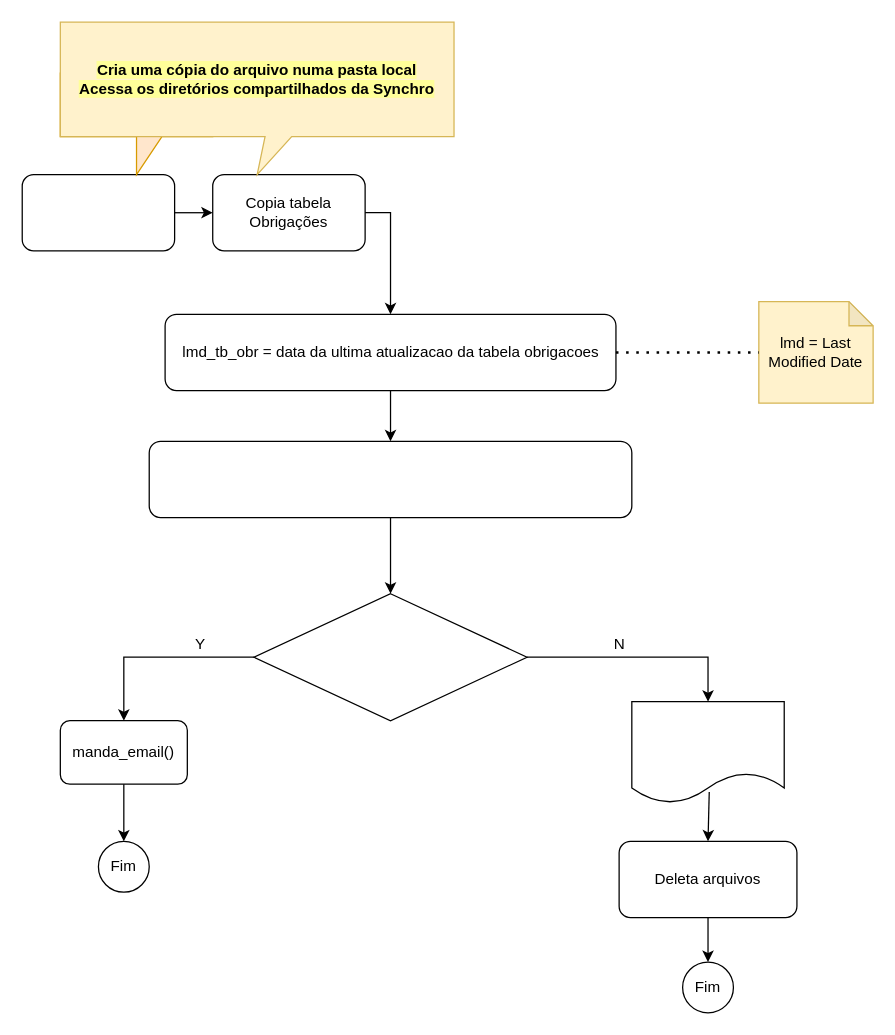
Image size: 895x1035. Some labels were removed from this diagram. Each missing label, with the centre of its shape:
"Não é necessário verificar": pixel 707 751
Copia tabela de preço: pixel 98 212
lmd_tb_obr > lmd_tb_preco: pixel 390 656
lmd_tb_preco = data da ultima atualização da tabela de preço: pixel 390 479
